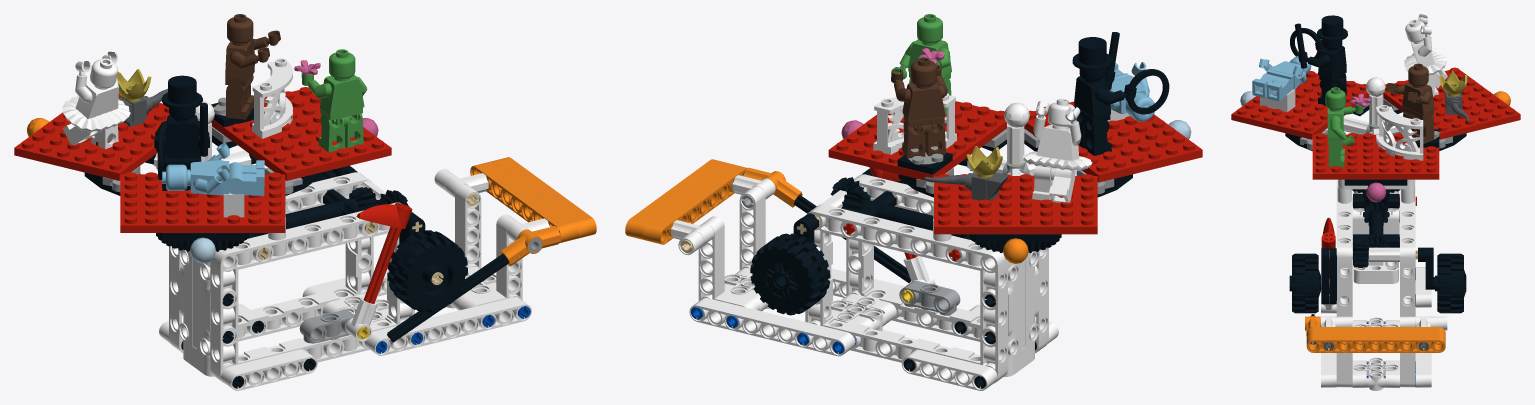
The picture shows the model from 3 angles, left to right: view 1: azimuth 30°, elevation 25°; view 2: azimuth 150°, elevation 25°; view 3: azimuth 270°, elevation 25°; orthographic projection. The views are drawn at different scales.
Visible parts, largest first — view 1: Inner-Node-aiellomorto_dot_io-11.001, Inner-Node-aiellomorto_dot_io-77.001, Inner-Node-aiellomorto_dot_io-0.001, Inner-Node-aiellomorto_dot_io-73.001, Inner-Node-aiellomorto_dot_io-76.001, Inner-Node-aiellomorto_dot_io-61.001, Inner-Node-aiellomorto_dot_io-43.001, Inner-Node-aiellomorto_dot_io-3.001, Inner-Node-aiellomorto_dot_io-45.001, Inner-Node-aiellomorto_dot_io-104.001, Inner-Node-aiellomorto_dot_io-30.001, Inner-Node-aiellomorto_dot_io-41.001 (+34 smaller); view 2: Inner-Node-aiellomorto_dot_io-0.001, Inner-Node-aiellomorto_dot_io-76.001, Inner-Node-aiellomorto_dot_io-11.001, Inner-Node-aiellomorto_dot_io-77.001, Inner-Node-aiellomorto_dot_io-73.001, Inner-Node-aiellomorto_dot_io-61.002, Inner-Node-aiellomorto_dot_io-44.001, Inner-Node-aiellomorto_dot_io-3.001, Inner-Node-aiellomorto_dot_io-45.001, Inner-Node-aiellomorto_dot_io-42.001, Inner-Node-aiellomorto_dot_io-33.001, Inner-Node-aiellomorto_dot_io-104.001 (+35 smaller); view 3: Inner-Node-aiellomorto_dot_io-73.001, Inner-Node-aiellomorto_dot_io-77.001, Inner-Node-aiellomorto_dot_io-76.001, Inner-Node-aiellomorto_dot_io-48.001, Inner-Node-aiellomorto_dot_io-11.001, Inner-Node-aiellomorto_dot_io-0.001, Inner-Node-aiellomorto_dot_io-104.001, Inner-Node-aiellomorto_dot_io-3.001, Inner-Node-aiellomorto_dot_io-61.001, Inner-Node-aiellomorto_dot_io-61.002, Inner-Node-aiellomorto_dot_io-38.001, Inner-Node-aiellomorto_dot_io-45.001 (+39 smaller).
Part boxes in pixels (x1,y1,x2,y2): Inner-Node-aiellomorto_dot_io-11.001: [210, 202, 414, 383]; Inner-Node-aiellomorto_dot_io-77.001: [120, 172, 285, 232]; Inner-Node-aiellomorto_dot_io-0.001: [169, 172, 373, 352]; Inner-Node-aiellomorto_dot_io-73.001: [211, 87, 391, 180]; Inner-Node-aiellomorto_dot_io-76.001: [14, 93, 169, 180]; Inner-Node-aiellomorto_dot_io-61.001: [387, 230, 467, 312]; Inner-Node-aiellomorto_dot_io-43.001: [364, 297, 531, 355]; Inner-Node-aiellomorto_dot_io-3.001: [179, 249, 214, 376]; Inner-Node-aiellomorto_dot_io-45.001: [470, 161, 578, 243]; Inner-Node-aiellomorto_dot_io-104.001: [252, 58, 292, 138]; Inner-Node-aiellomorto_dot_io-30.001: [221, 349, 317, 390]; Inner-Node-aiellomorto_dot_io-41.001: [460, 214, 522, 309]; Inner-Node-aiellomorto_dot_io-0.001: [805, 204, 1007, 383]; Inner-Node-aiellomorto_dot_io-76.001: [934, 174, 1097, 234]; Inner-Node-aiellomorto_dot_io-11.001: [846, 174, 1048, 353]; Inner-Node-aiellomorto_dot_io-77.001: [1024, 101, 1202, 182]; Inner-Node-aiellomorto_dot_io-73.001: [828, 101, 1006, 182]; Inner-Node-aiellomorto_dot_io-61.002: [750, 233, 830, 315]; Inner-Node-aiellomorto_dot_io-44.001: [689, 298, 855, 356]; Inner-Node-aiellomorto_dot_io-3.001: [1004, 251, 1039, 376]; Inner-Node-aiellomorto_dot_io-45.001: [643, 163, 746, 244]; Inner-Node-aiellomorto_dot_io-42.001: [698, 216, 759, 310]; Inner-Node-aiellomorto_dot_io-33.001: [901, 349, 997, 390]; Inner-Node-aiellomorto_dot_io-104.001: [873, 93, 956, 154]; Inner-Node-aiellomorto_dot_io-73.001: [1312, 133, 1439, 179]; Inner-Node-aiellomorto_dot_io-77.001: [1231, 71, 1369, 139]; Inner-Node-aiellomorto_dot_io-76.001: [1383, 67, 1520, 139]; Inner-Node-aiellomorto_dot_io-48.001: [1306, 333, 1445, 352]; Inner-Node-aiellomorto_dot_io-11.001: [1336, 180, 1352, 316]; Inner-Node-aiellomorto_dot_io-0.001: [1400, 180, 1415, 316]; Inner-Node-aiellomorto_dot_io-104.001: [1376, 105, 1423, 160]; Inner-Node-aiellomorto_dot_io-3.001: [1352, 191, 1399, 283]; Inner-Node-aiellomorto_dot_io-61.001: [1292, 253, 1318, 313]; Inner-Node-aiellomorto_dot_io-61.002: [1437, 253, 1463, 313]; Inner-Node-aiellomorto_dot_io-38.001: [1352, 357, 1399, 390]; Inner-Node-aiellomorto_dot_io-45.001: [1306, 327, 1445, 344].
Size of the model in its own units: 21.66 by 13.54 by 14.62.
